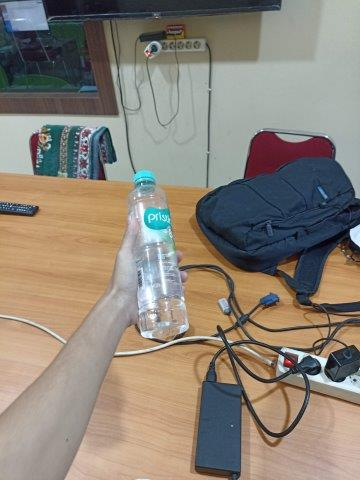botolplastik: (125, 169, 189, 340)
